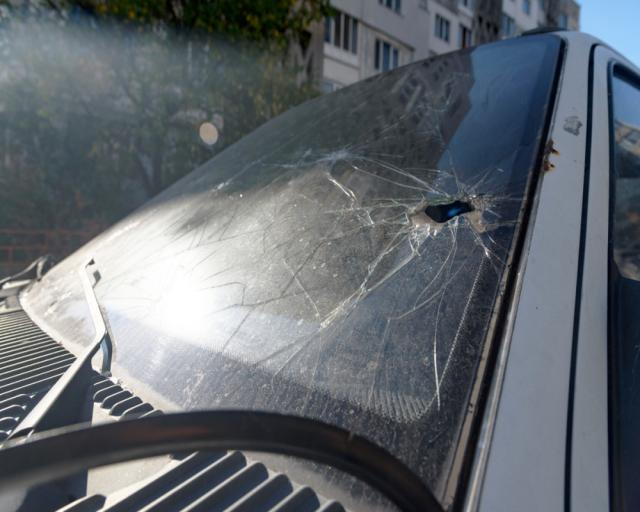glass shatter: (24, 34, 561, 512)
